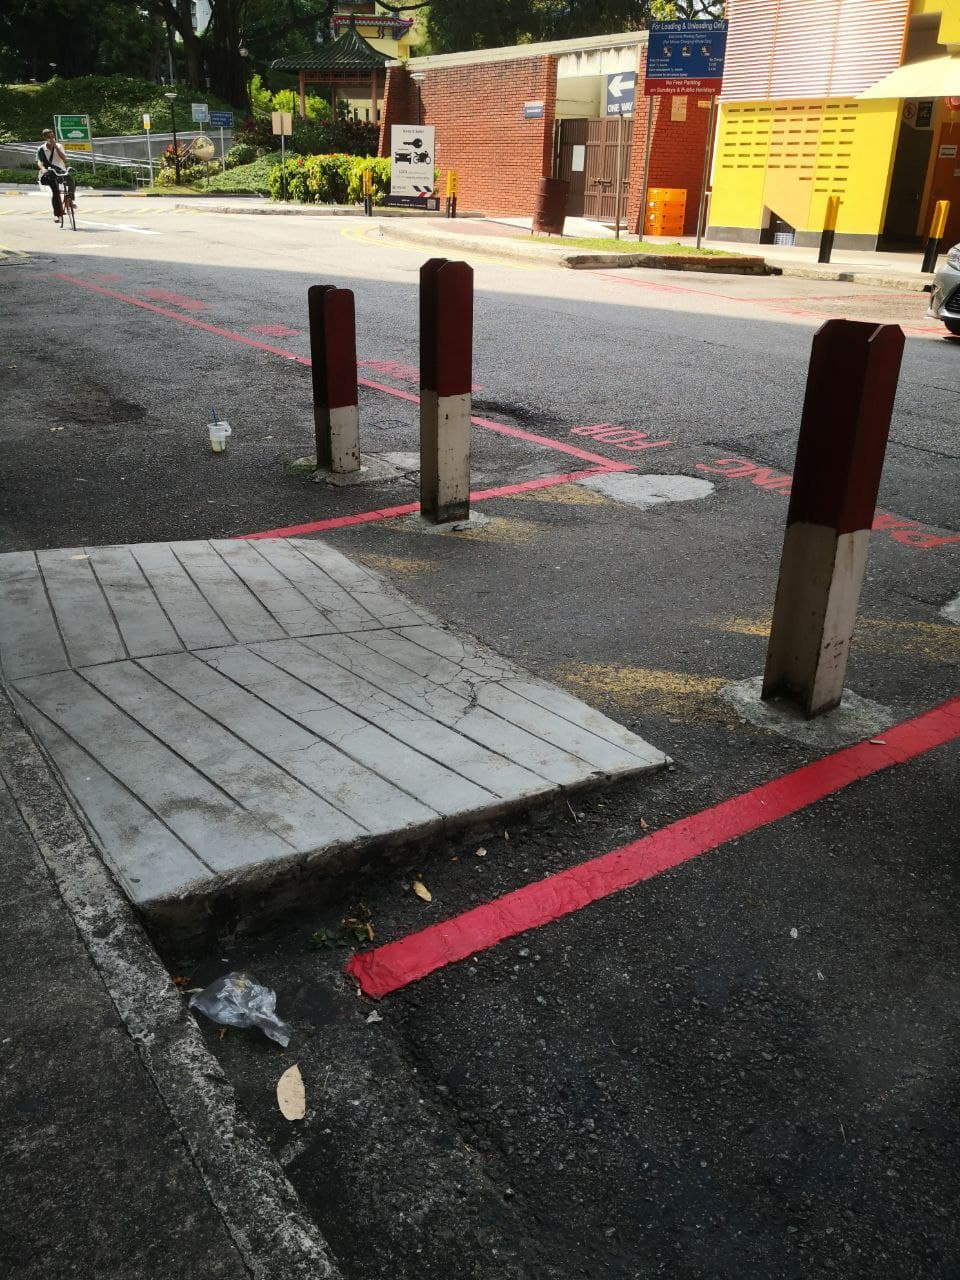slopes: (1, 505, 709, 950)
